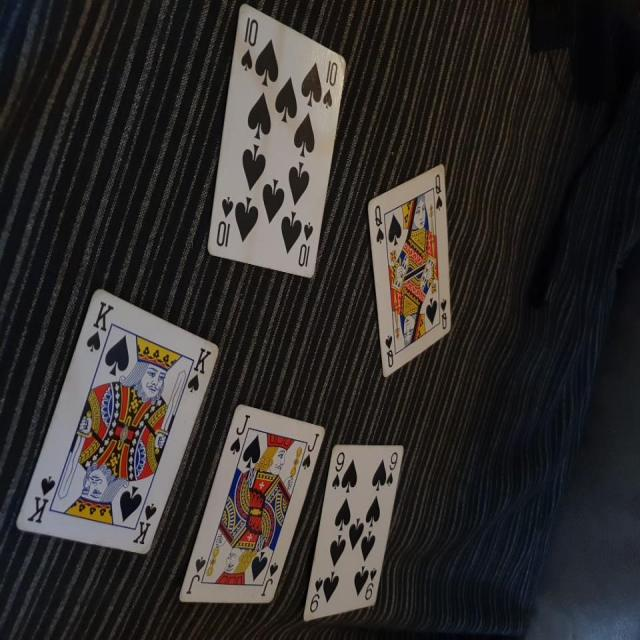10 Spades: (196, 1, 354, 289)
9 Spades: (298, 438, 408, 633)
J Spades: (177, 401, 326, 614)
K Spades: (11, 285, 219, 555)
Q Spades: (366, 165, 455, 386)
